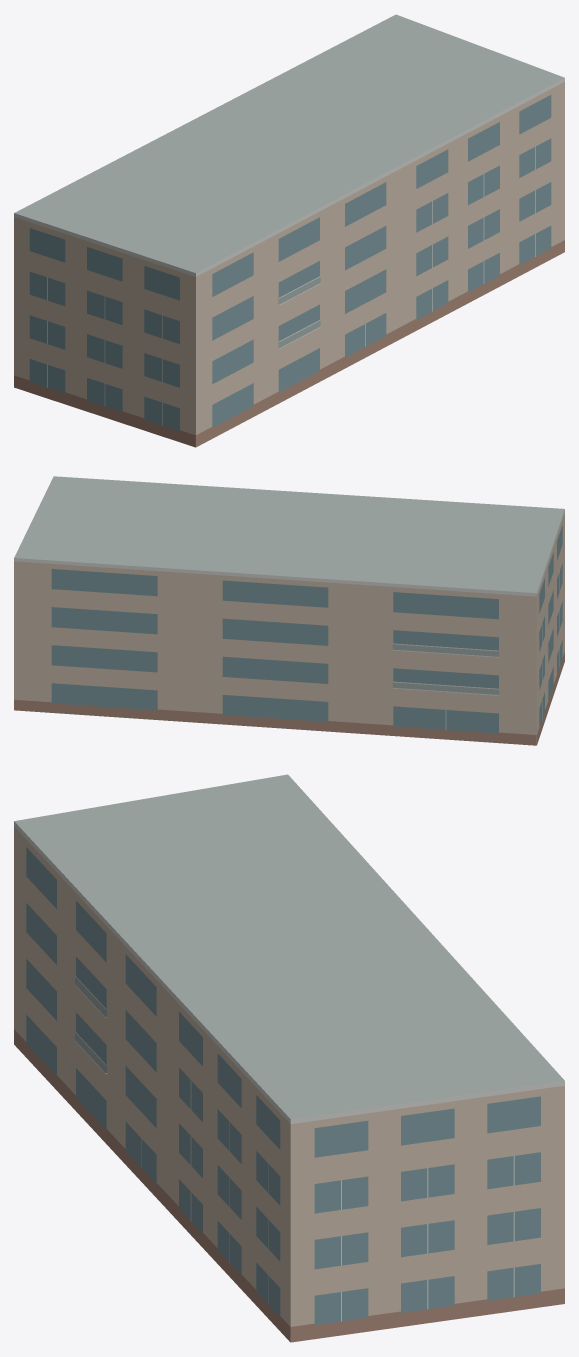
The model's file is survey-upis-32480610.glb.
The picture shows the model from 3 angles, top to bottom: view 1: azimuth 30°, elevation 25°; view 2: azimuth 150°, elevation 25°; view 3: azimuth 270°, elevation 25°; orthographic projection. The views are drawn at different scales.
Visible parts, largest first — view 1: survey-upis-32480610.tmp; view 2: survey-upis-32480610.tmp; view 3: survey-upis-32480610.tmp.
Boxes of the visible parts, box(x1,y1,x2,y2) form: survey-upis-32480610.tmp: box(14, 14, 564, 447); survey-upis-32480610.tmp: box(14, 476, 564, 745); survey-upis-32480610.tmp: box(14, 774, 564, 1342).
Size of the model in its own units: 36.1 by 10.9 by 24.37.
